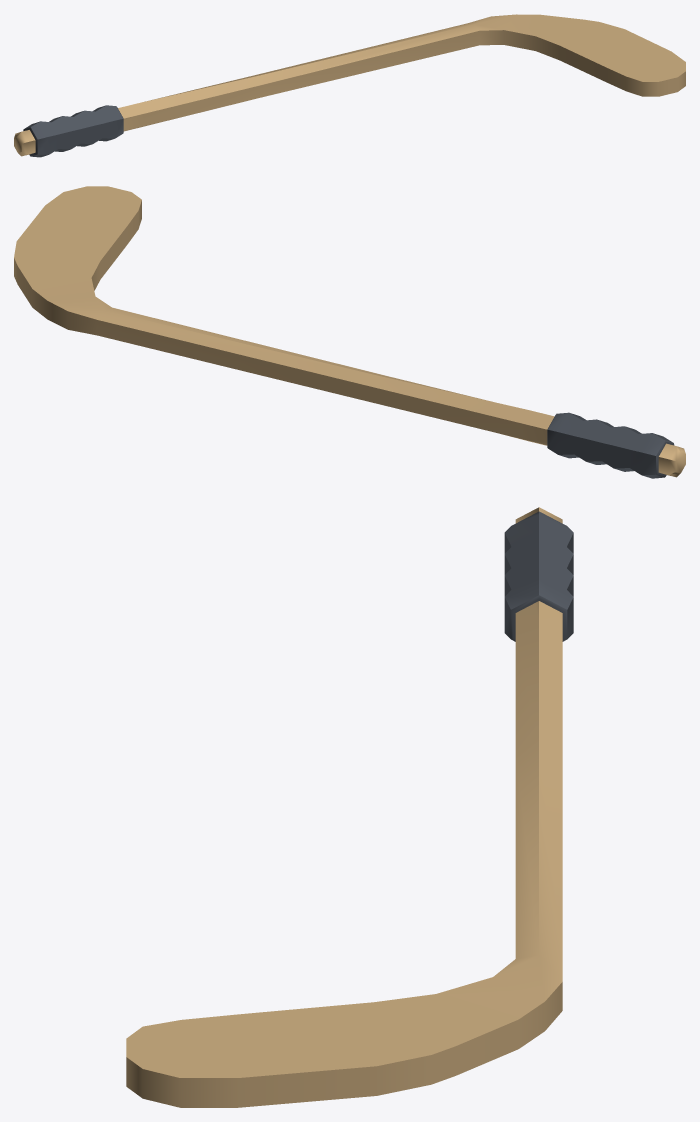
Rendered from taco_hoquei_pacote.glb.
The picture shows the model from 3 angles, top to bottom: view 1: azimuth 30°, elevation 25°; view 2: azimuth 150°, elevation 25°; view 3: azimuth 270°, elevation 25°; orthographic projection. The views are drawn at different scales.
Visible parts, largest first — view 1: taco_hoquei_pacote; view 2: taco_hoquei_pacote; view 3: taco_hoquei_pacote.
Part boxes in pixels (<box>): taco_hoquei_pacote: <box>14,14,685,157</box>; taco_hoquei_pacote: <box>14,186,685,478</box>; taco_hoquei_pacote: <box>126,507,573,1107</box>.
Bounding box in the file's own units: 1.26 × 0.0754 × 0.4229.
Materials: 1 (1 with a texture image).
